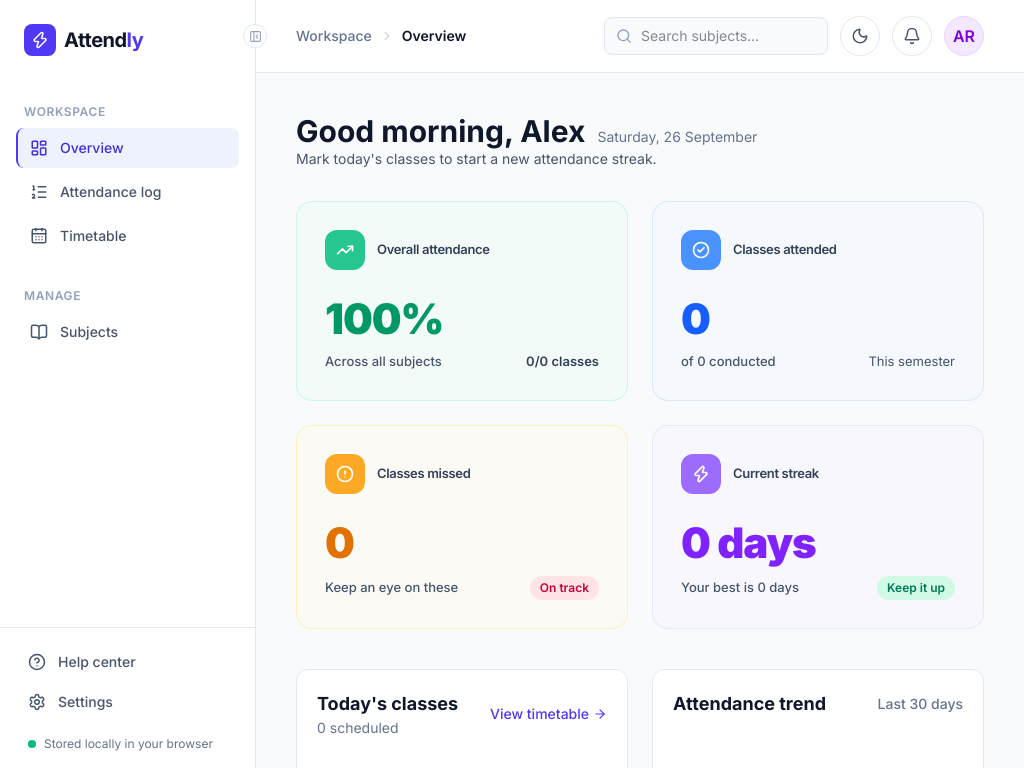
settings › exports a backup from settings
Click the button "Settings".
click(128, 702)  # box [16, 684, 239, 720]
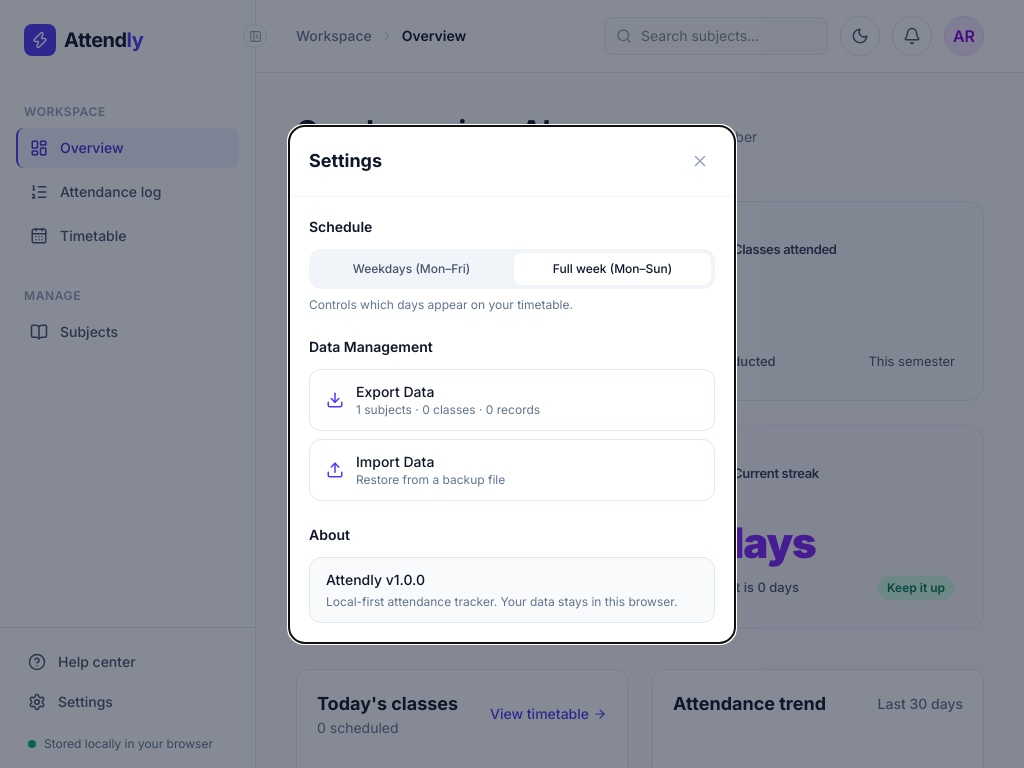
Now the text "1 subjects · 0 classes · 0 records" is shown, box [356, 402, 540, 418]
